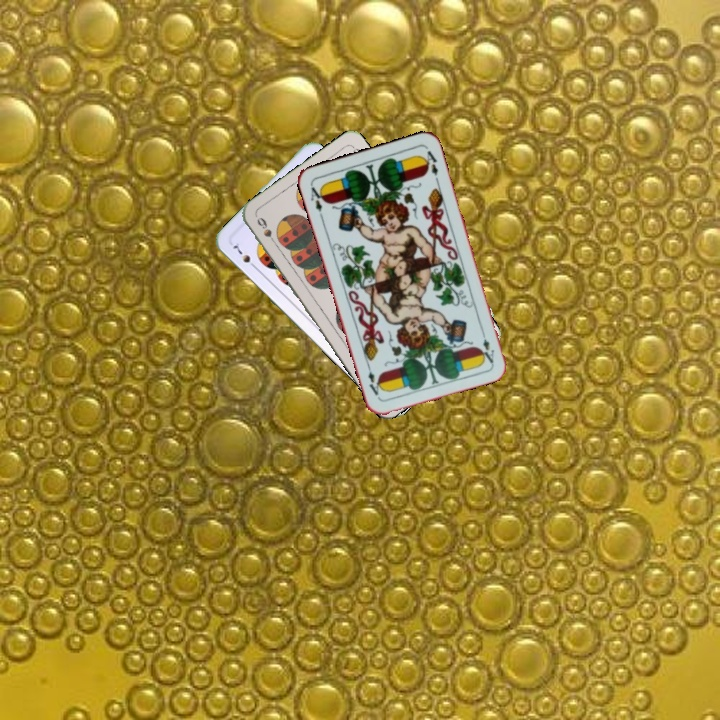EA: (306, 181, 327, 221), (478, 326, 497, 366)
S7: (229, 238, 260, 272)
S9: (253, 213, 280, 249)
